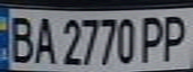0: (115, 14, 142, 65)
2: (57, 15, 81, 66)
7: (78, 15, 100, 66), (100, 15, 121, 66)
A: (30, 12, 57, 65)
B: (3, 11, 36, 64)
P: (157, 11, 193, 63), (136, 12, 169, 64)
